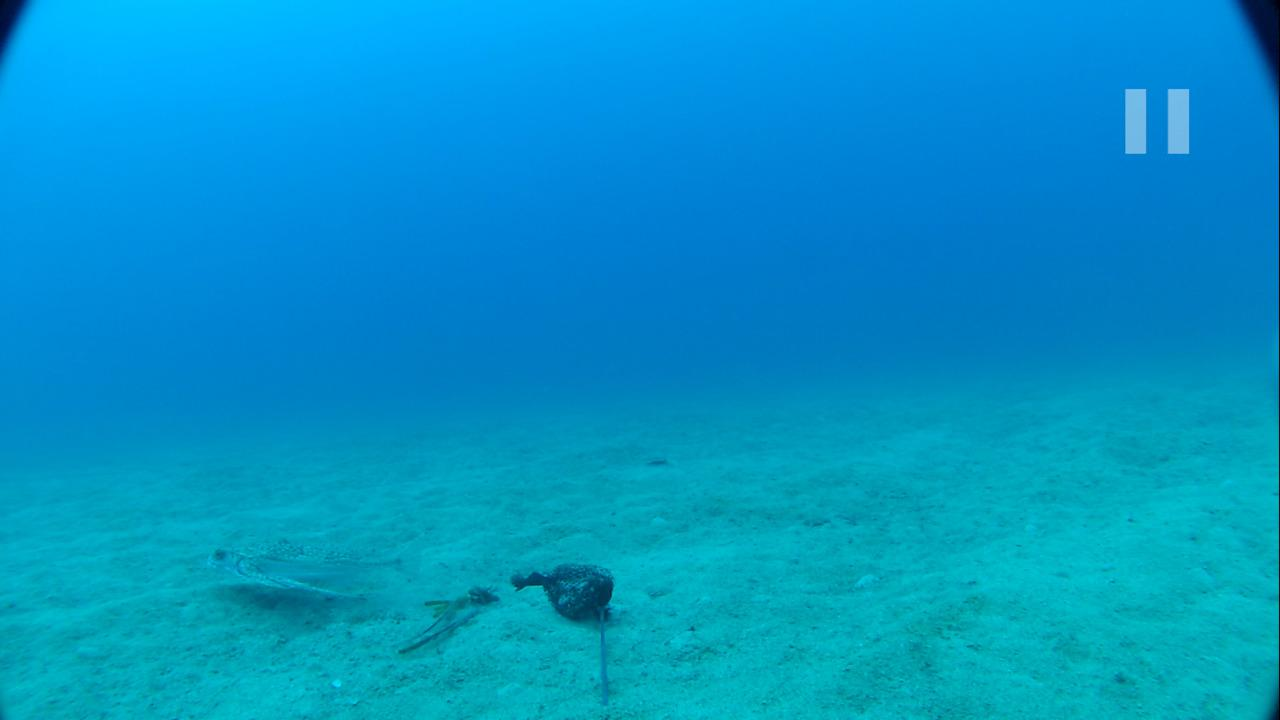dactylopterus: (202, 532, 424, 602)
